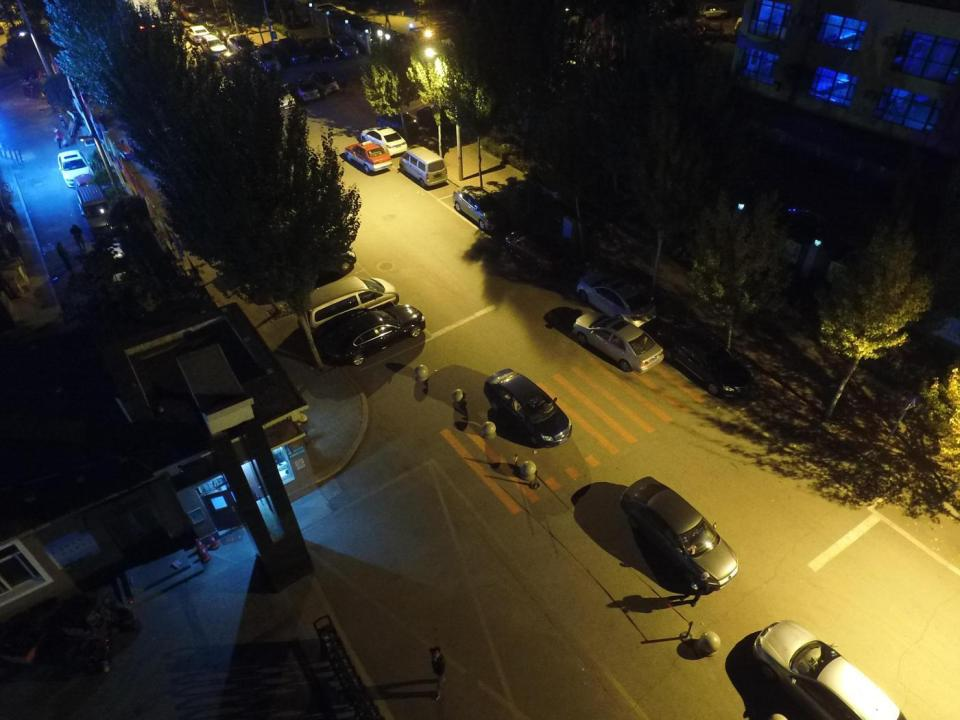car: (752, 618, 906, 720), (620, 474, 738, 590), (658, 316, 755, 397), (485, 368, 574, 448), (318, 302, 425, 366), (302, 276, 400, 335), (574, 312, 664, 373), (576, 271, 658, 330), (507, 228, 570, 276), (453, 182, 510, 231), (71, 173, 112, 238), (292, 244, 357, 283), (345, 139, 393, 174), (360, 126, 406, 156), (57, 150, 94, 187), (378, 108, 418, 138), (413, 105, 457, 132), (278, 38, 310, 66), (251, 48, 281, 76), (266, 83, 295, 110), (291, 79, 321, 104), (226, 34, 255, 59), (308, 40, 340, 62), (332, 35, 359, 61), (311, 72, 339, 96), (202, 34, 228, 59), (694, 18, 723, 35), (698, 3, 729, 18), (185, 25, 209, 44), (180, 2, 205, 20), (211, 26, 232, 46), (731, 16, 745, 31)
van: (400, 144, 448, 189)
